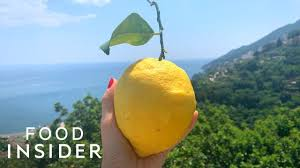lemon: (101, 55, 210, 156)
